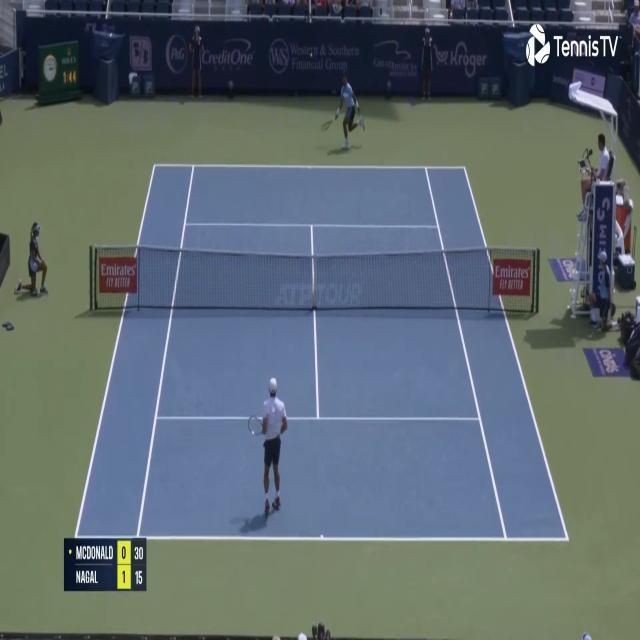tennis-player: (246, 374, 291, 524), (319, 70, 368, 152)
